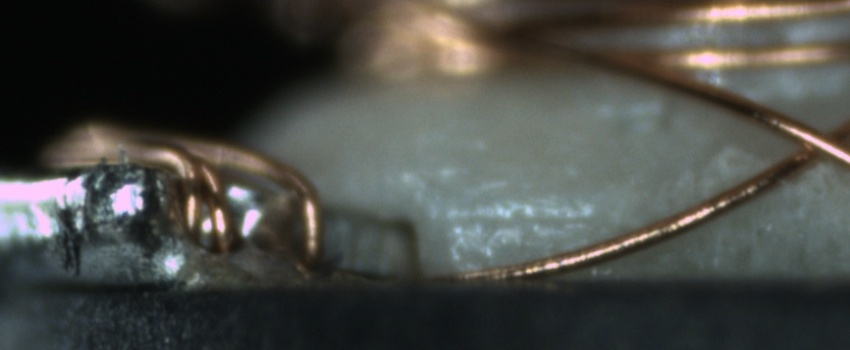CL: (770, 110, 848, 175)
DL: (443, 187, 626, 251)
TE: (45, 109, 342, 285)
